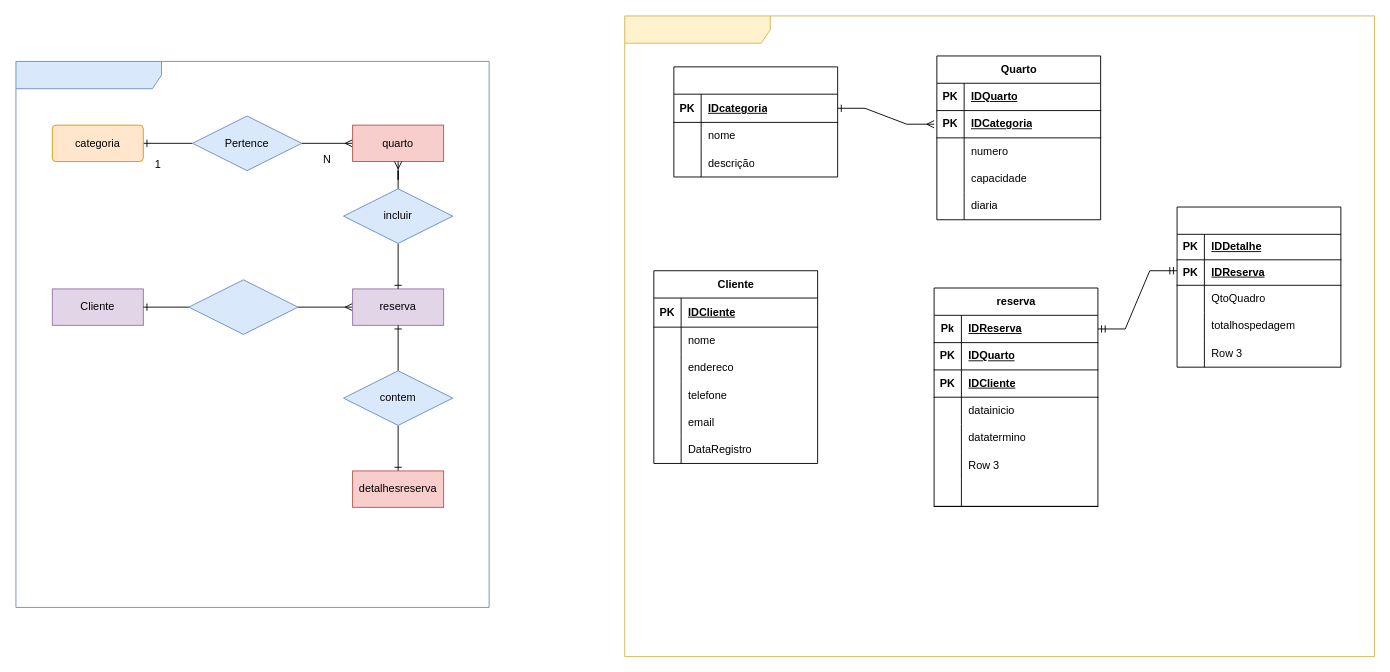
This 1390x672 diagram has some shape labels left out. Each missing label, with the box of its shape:
Categoria Quarto: (673, 66, 838, 177)
faz: (188, 279, 298, 334)
modelo conceitual: (15, 61, 489, 607)
Modelo Lógico: (624, 15, 1375, 657)
Table: (1176, 206, 1341, 367)
